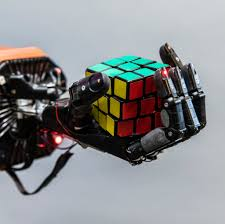cube: (82, 51, 173, 142)
